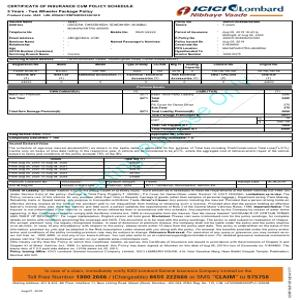image: (175, 2, 286, 19)
table: (8, 87, 293, 140), (7, 155, 293, 189), (8, 56, 293, 86)
text: (9, 189, 289, 258), (7, 21, 162, 56), (175, 21, 267, 55)
